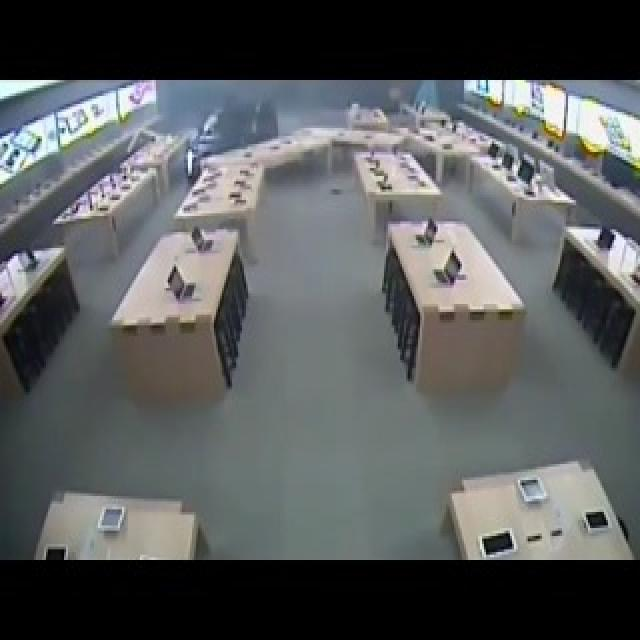burglary: (188, 96, 278, 192)
